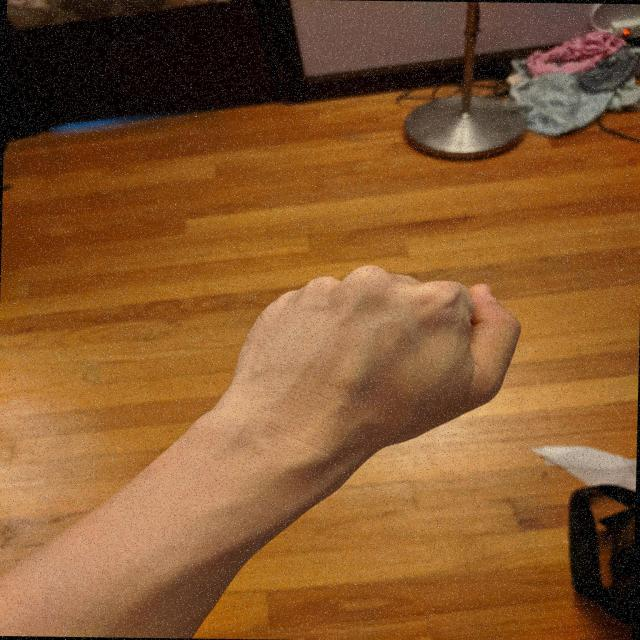A: (218, 258, 527, 462)
